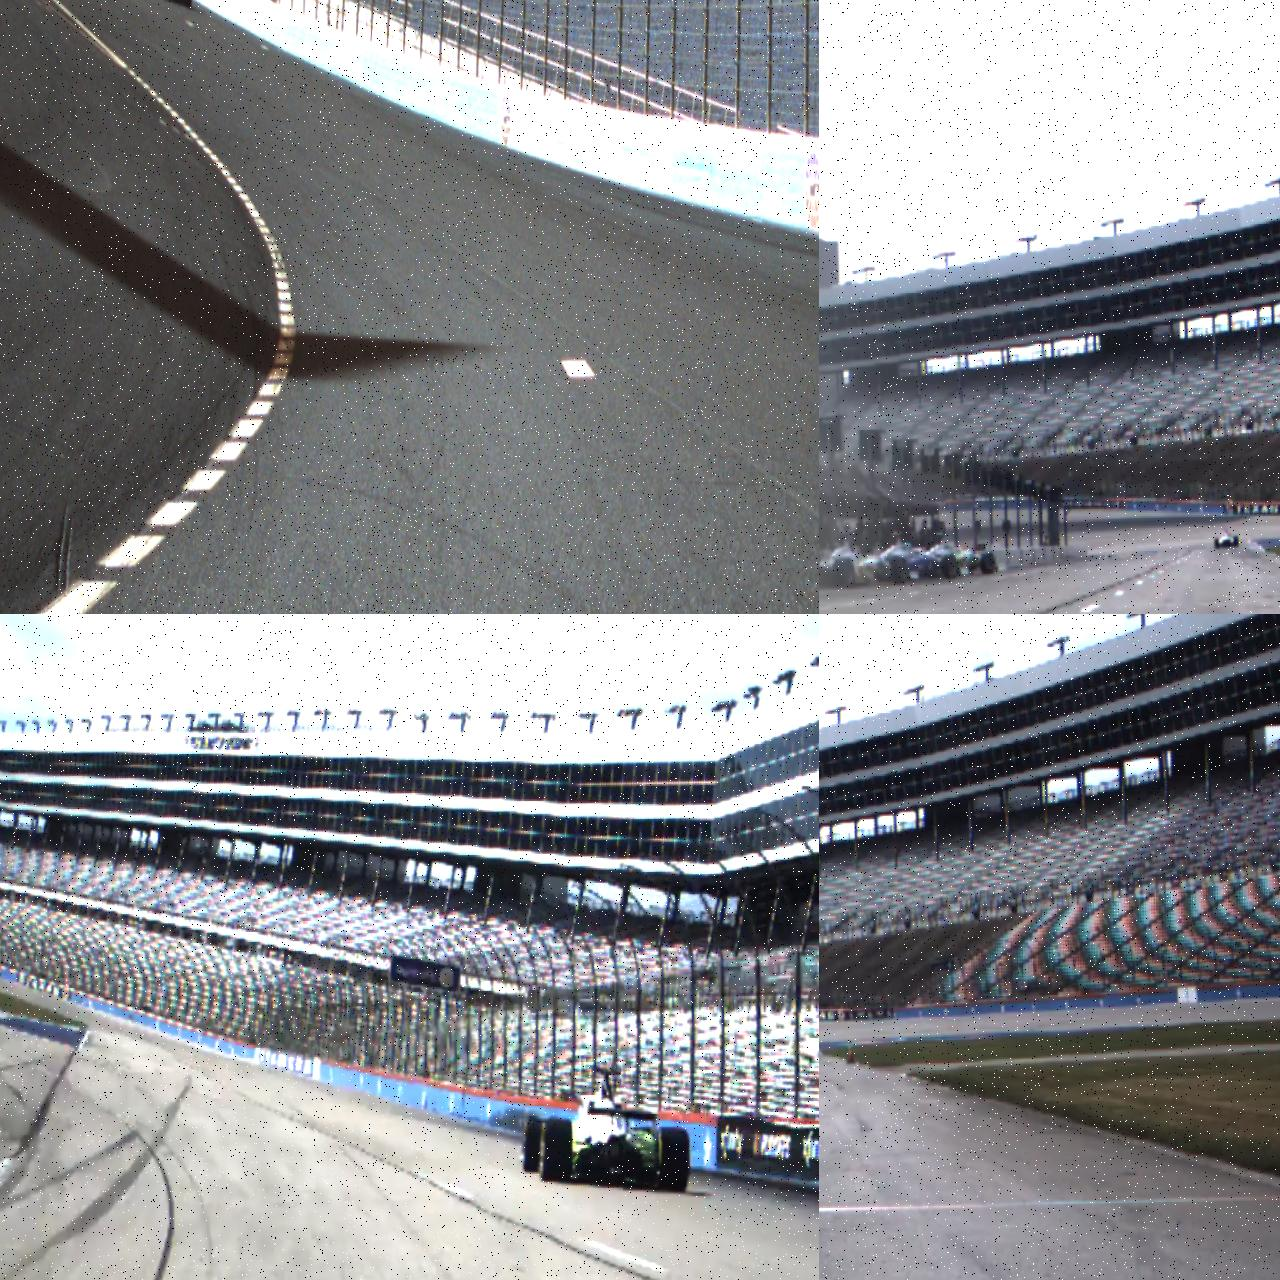AV: (518, 1065, 692, 1196), (1214, 530, 1238, 548)
Wheel: (541, 1120, 574, 1184), (660, 1128, 691, 1192), (522, 1114, 544, 1172), (832, 558, 855, 588), (891, 558, 908, 584), (941, 554, 958, 580), (981, 554, 995, 574), (186, 0, 192, 7), (1234, 536, 1238, 546), (1214, 539, 1218, 549)
